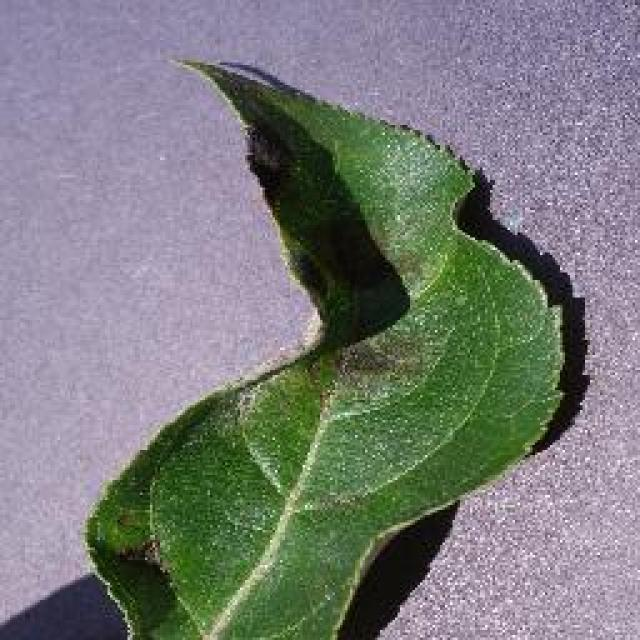apple scab disease: (80, 52, 585, 638)
